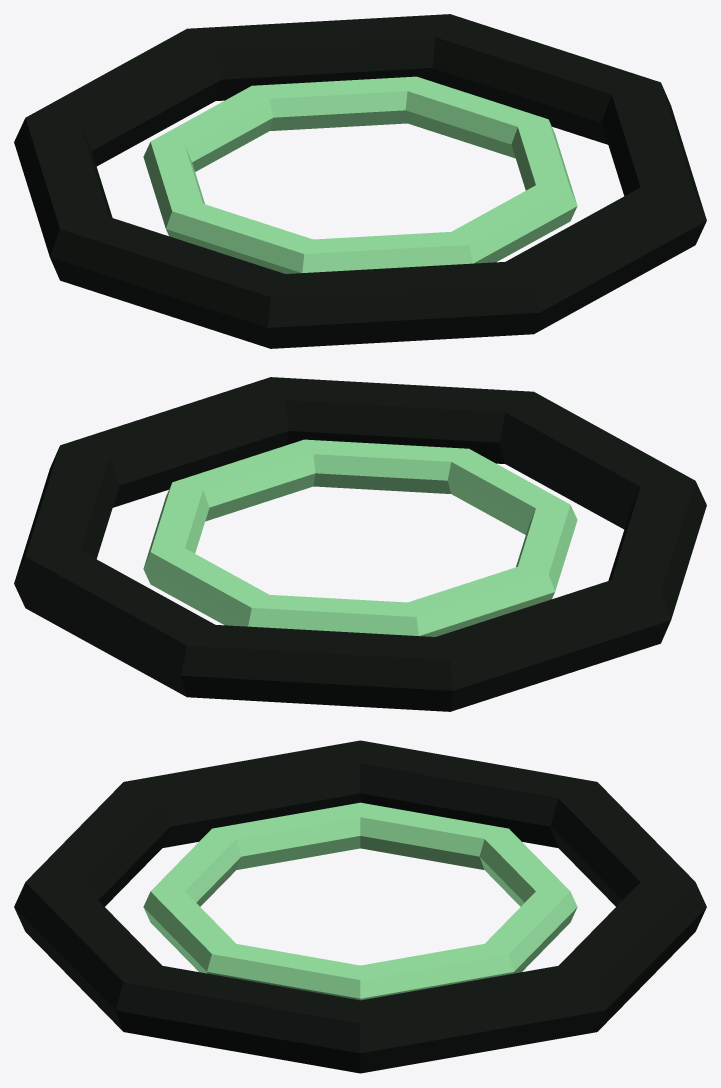
File: FlisbickX10.fbx
3 views of the same model, one above another, from view 1: azimuth 30°, elevation 25°; view 2: azimuth 150°, elevation 25°; view 3: azimuth 270°, elevation 25° (orthographic). The views are drawn at different scales.
Parts seen in each view (by area): view 1: pTorus1, pTorus2; view 2: pTorus1, pTorus2; view 3: pTorus1, pTorus2.
Boxes of the visible parts, <box> form: pTorus1: <box>14,14,706,348</box>; pTorus2: <box>143,76,577,273</box>; pTorus1: <box>14,377,706,711</box>; pTorus2: <box>143,439,577,636</box>; pTorus1: <box>14,740,706,1073</box>; pTorus2: <box>143,802,577,1000</box>.
Size of the model in its own units: 26.01 by 2.49 by 26.01.
